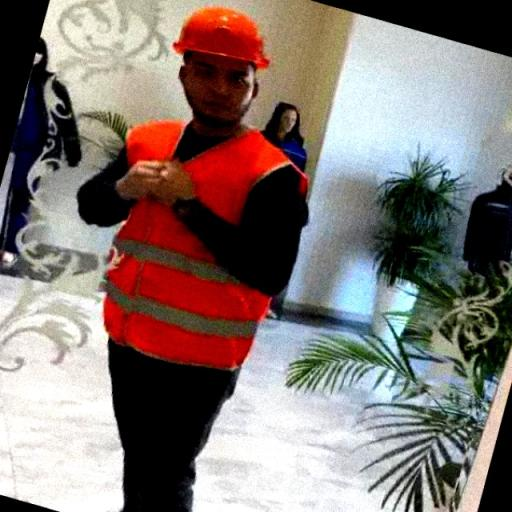Person: (55, 6, 351, 512)
helmet: (171, 34, 273, 75)
none: (142, 153, 211, 220), (160, 52, 277, 88), (111, 142, 168, 210)
vest: (96, 110, 304, 402)
